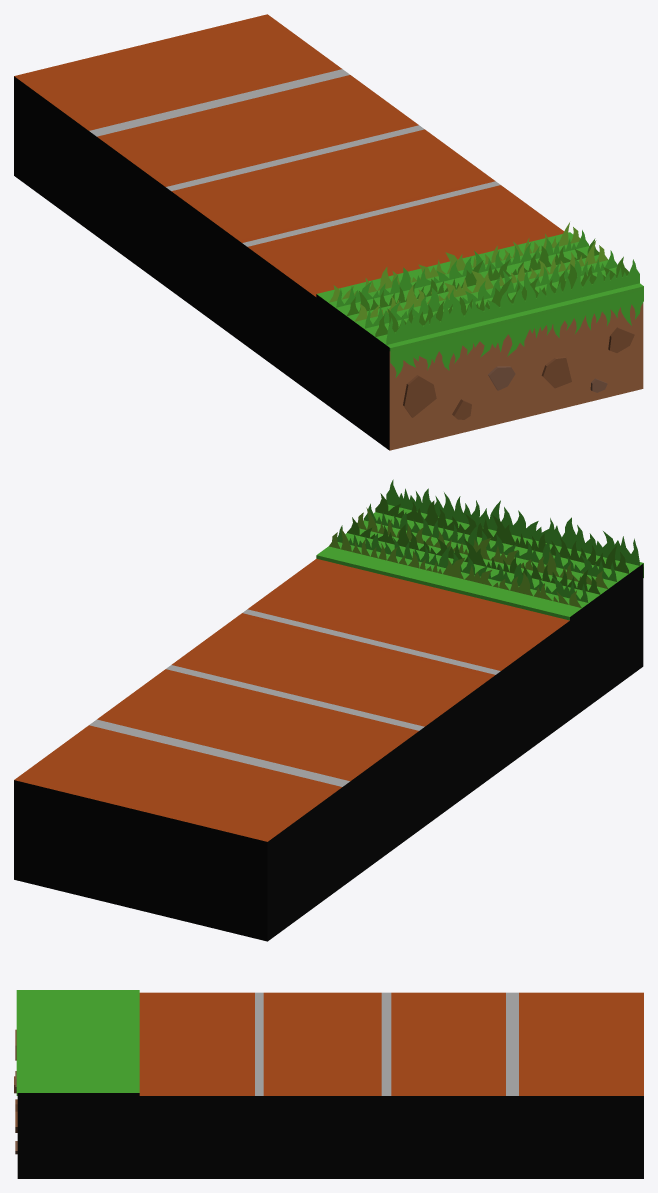
Rendered from ground_01.fbx.
The picture shows the model from 3 angles, top to bottom: view 1: azimuth 30°, elevation 25°; view 2: azimuth 150°, elevation 25°; view 3: azimuth 270°, elevation 25°; orthographic projection. The views are drawn at different scales.
Visible parts, largest first — view 1: ground_01; view 2: ground_01; view 3: ground_01.
Boxes of the visible parts, x1,y1,x2,y2 form: ground_01: (14,14,643,450); ground_01: (14,479,643,941); ground_01: (14,990,643,1178).
Size of the model in its own units: 192 by 97.81 by 496.
